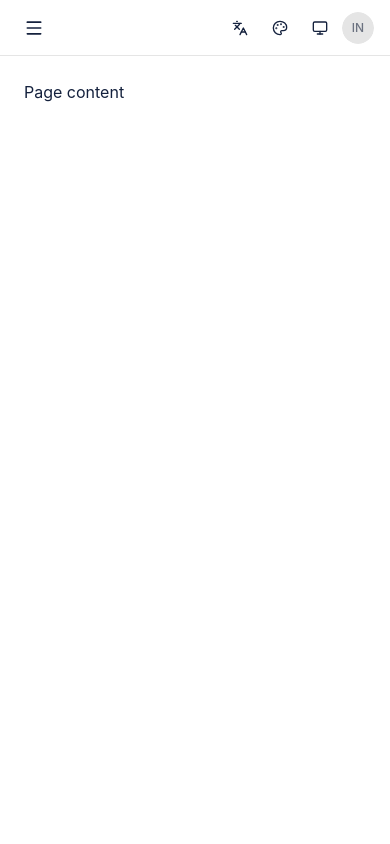
Test: AppShell › opens drawer when hamburger is clicked on mobile
Click the button with test id "hamburger". click: (34, 28)
box: [16,10,52,46]
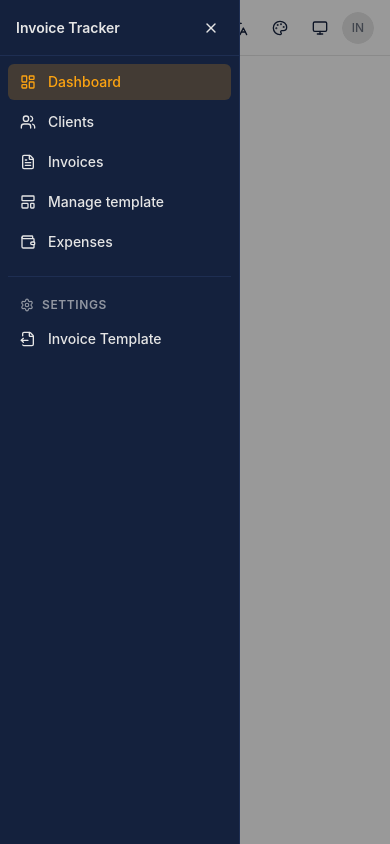
Now the dialog with test id "drawer-overlay" is shown
